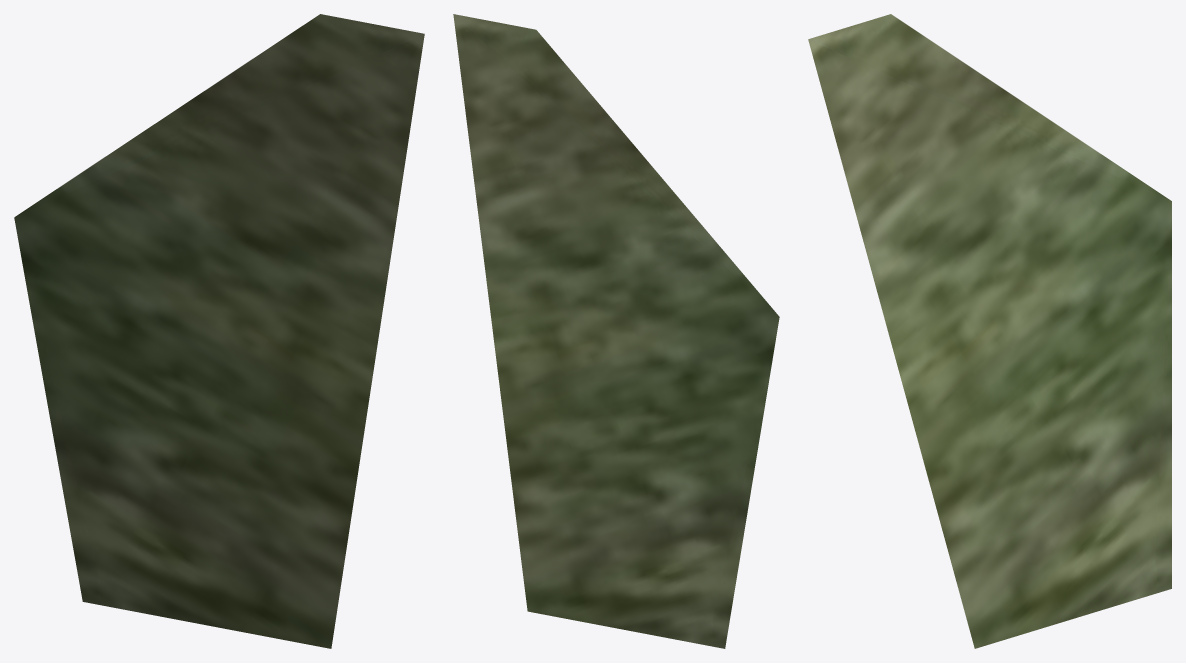
3 renders of one model, left to right at view 1: azimuth 30°, elevation 25°; view 2: azimuth 210°, elevation 25°; view 3: azimuth 270°, elevation 25°, orthographic. The views are drawn at different scales.
Bounding box in the file's own units: 0.9335 × 2.95 × 1.59.
1 material, 1 textured.
